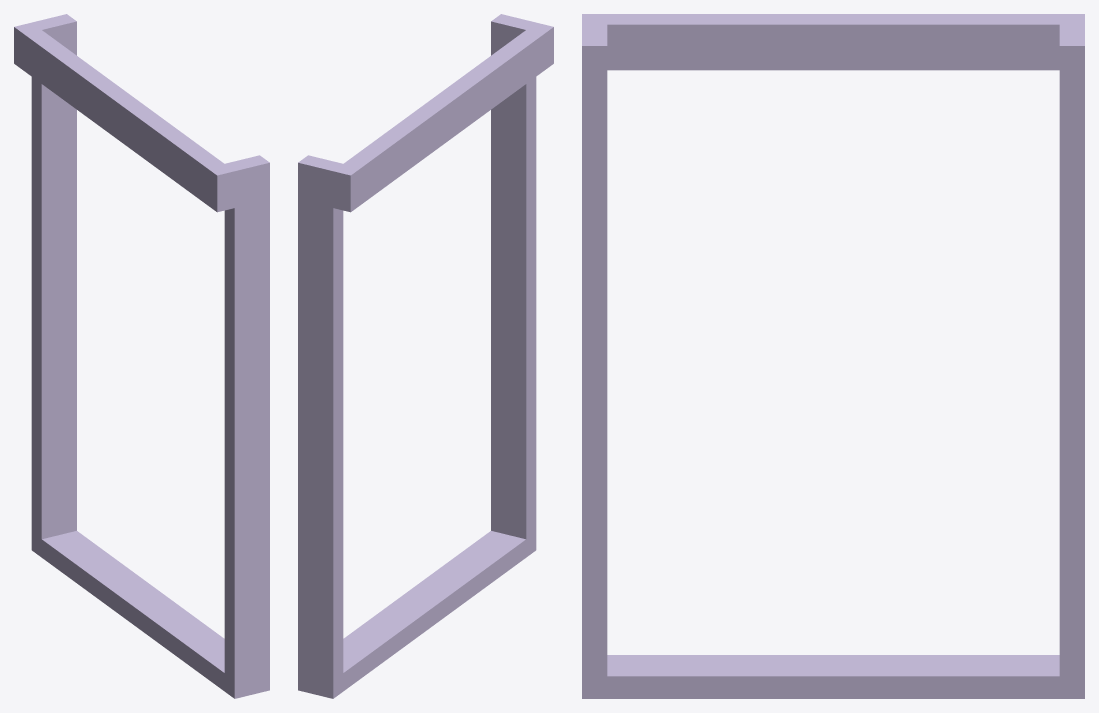
Rendered from ElevatorUpper.dae.
3 renders of one model, left to right at view 1: azimuth 30°, elevation 25°; view 2: azimuth 150°, elevation 25°; view 3: azimuth 270°, elevation 25°, orthographic. The views are drawn at different scales.
Visible parts, largest first — view 1: UpperStage; view 2: UpperStage; view 3: UpperStage.
Boxes of the visible parts, x1,y1,x2,y2 form: UpperStage: (14,14,269,698); UpperStage: (298,14,553,698); UpperStage: (582,14,1084,698).
Size of the model in its own units: 0.0762 by 0.508 by 0.7281.
